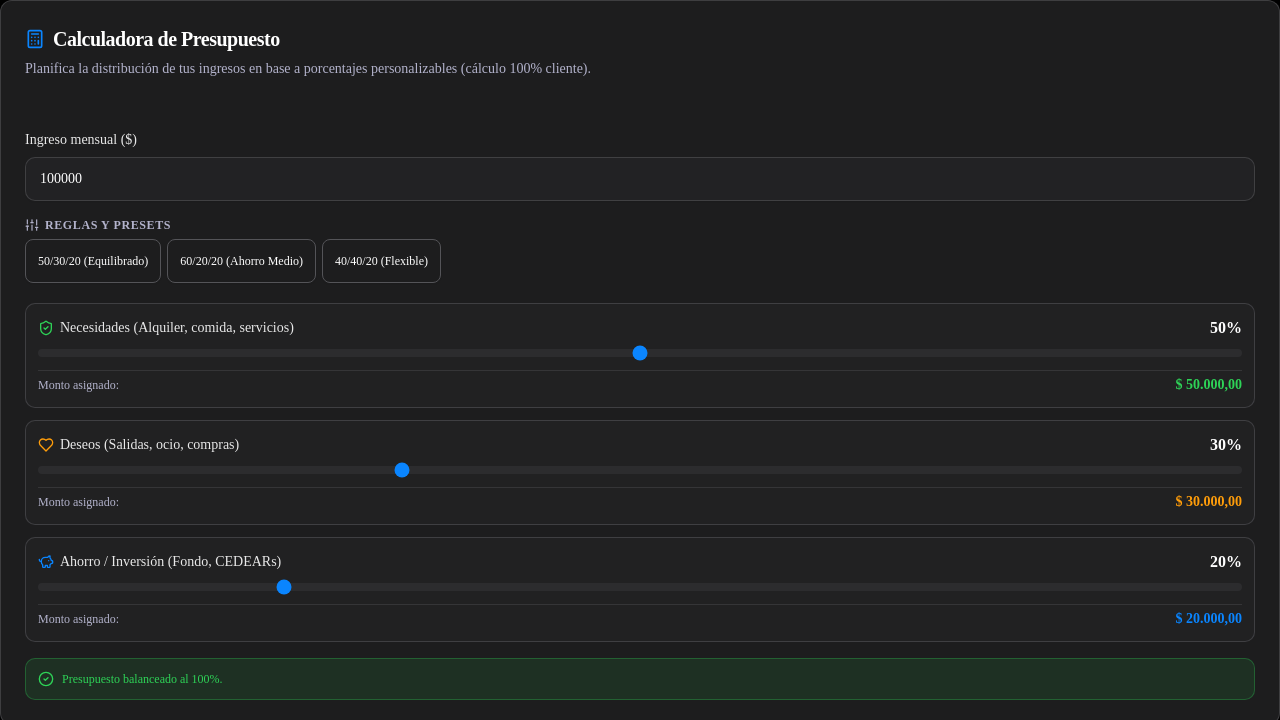
Test: Accessibility Audit & Assertions across MVP Surfaces › BudgetCalculator: provides accessible labels for income, sliders, and aria-live status & alerts
expect the number field labelled "Ingreso mensual ($)" is shown: met, box [25, 157, 1255, 201]
expect the slider named "porcentaje para deseos" is shown: met, box [38, 466, 1242, 474]
Note: Change slider to produce an unbalanced alert
Set the slider named "porcentaje para necesidades" to "70": (878, 353) [38, 349, 1242, 357]
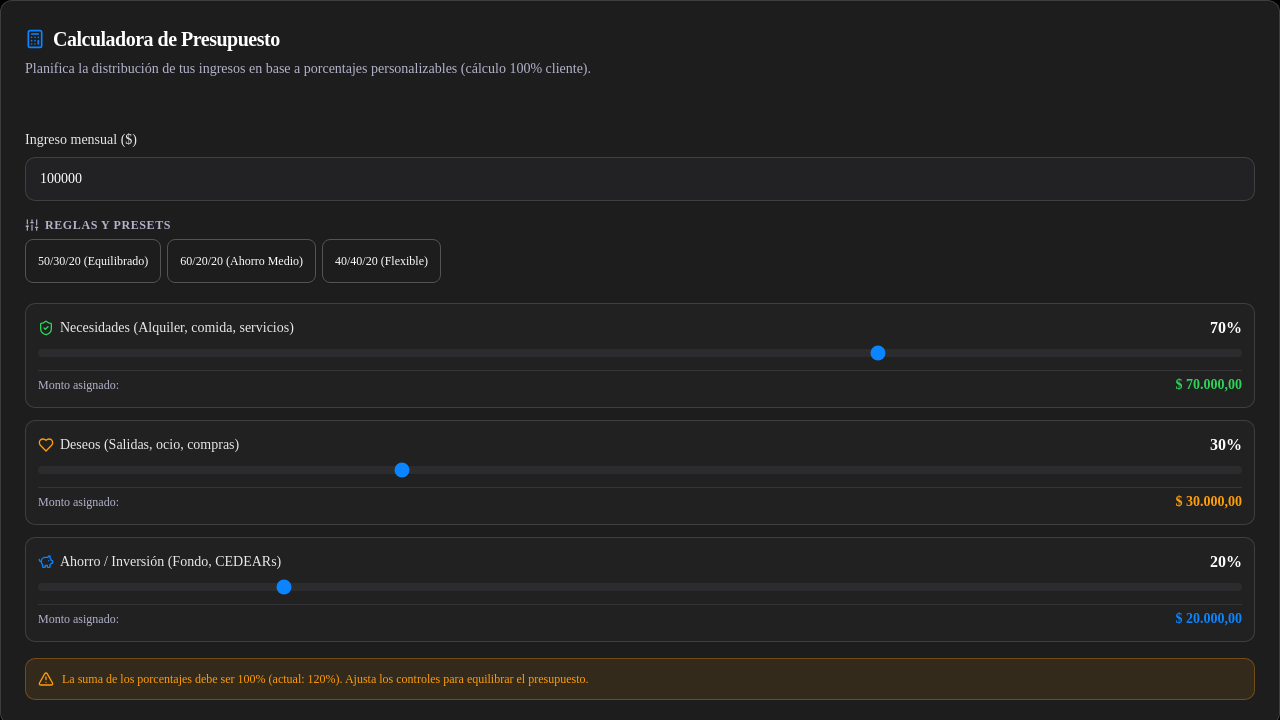
expect the message is shown: met, box [25, 658, 1255, 700]
expect the message shows "La suma de los porcentajes debe ser 100%": met, box [62, 672, 308, 686]
